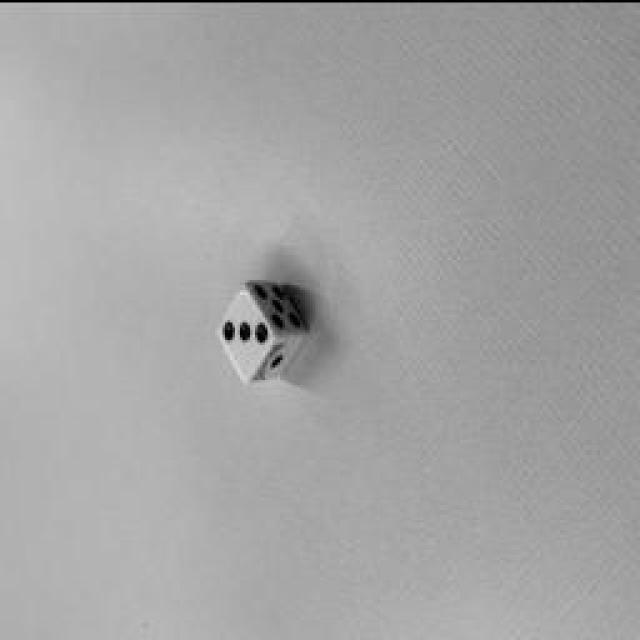dice_3: (219, 279, 276, 381)
